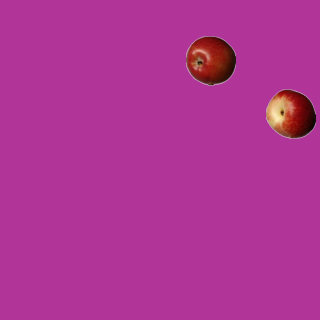Apple Braeburn: (185, 35, 235, 85)
Nectarine: (265, 88, 315, 138)
